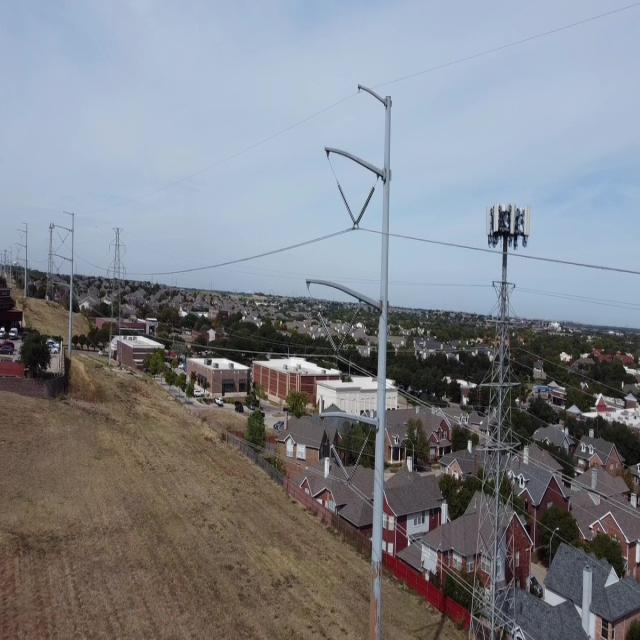杆塔: (463, 268, 525, 638), (102, 214, 128, 347), (43, 218, 59, 302)
正常绝缘子: (310, 291, 344, 362), (328, 166, 361, 239), (330, 299, 364, 369), (321, 428, 357, 493), (347, 180, 382, 245), (343, 423, 375, 494)
